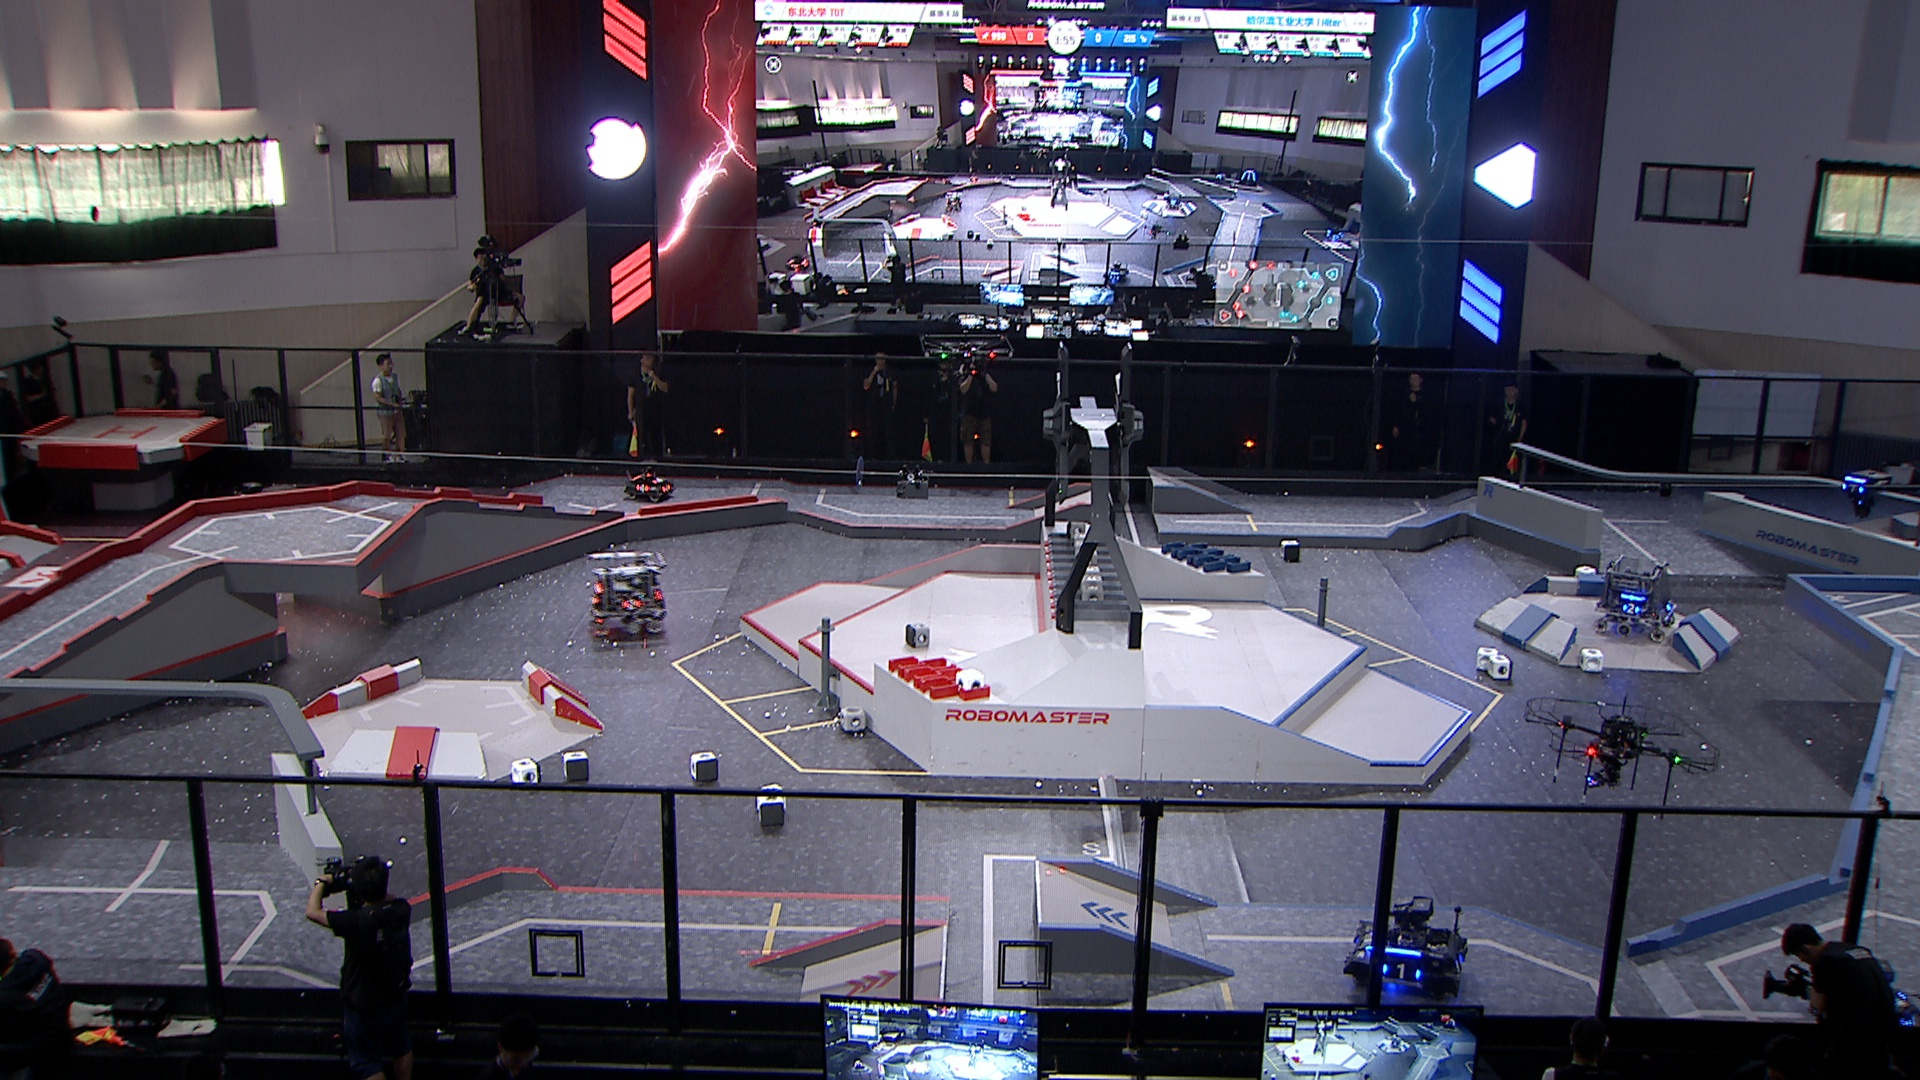armor: (1381, 960, 1425, 982), (1894, 989, 1911, 1011), (1451, 953, 1465, 978), (1841, 481, 1866, 495), (1361, 931, 1375, 953), (622, 599, 642, 612), (1622, 603, 1642, 616), (633, 484, 651, 495), (650, 475, 665, 485), (659, 484, 671, 495)
car: (1344, 891, 1468, 1002), (1826, 957, 1920, 1040), (1596, 555, 1677, 645), (588, 550, 670, 640), (622, 458, 678, 504)
ignore: (1105, 261, 1130, 285), (785, 255, 811, 273), (1238, 169, 1258, 187), (1327, 225, 1346, 243), (945, 191, 963, 210), (1166, 194, 1182, 210), (811, 215, 825, 229), (1215, 171, 1229, 185)
watcher: (1840, 467, 1888, 518)
